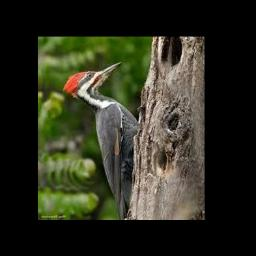Woodpecker: (63, 62, 140, 220)
